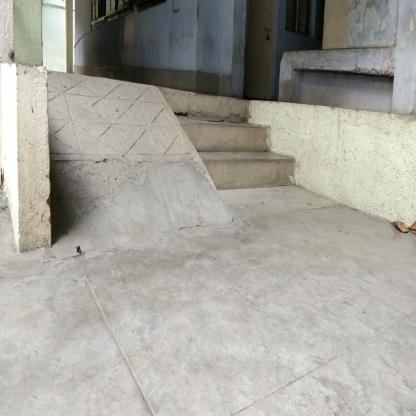stairs: (221, 121, 257, 196)
